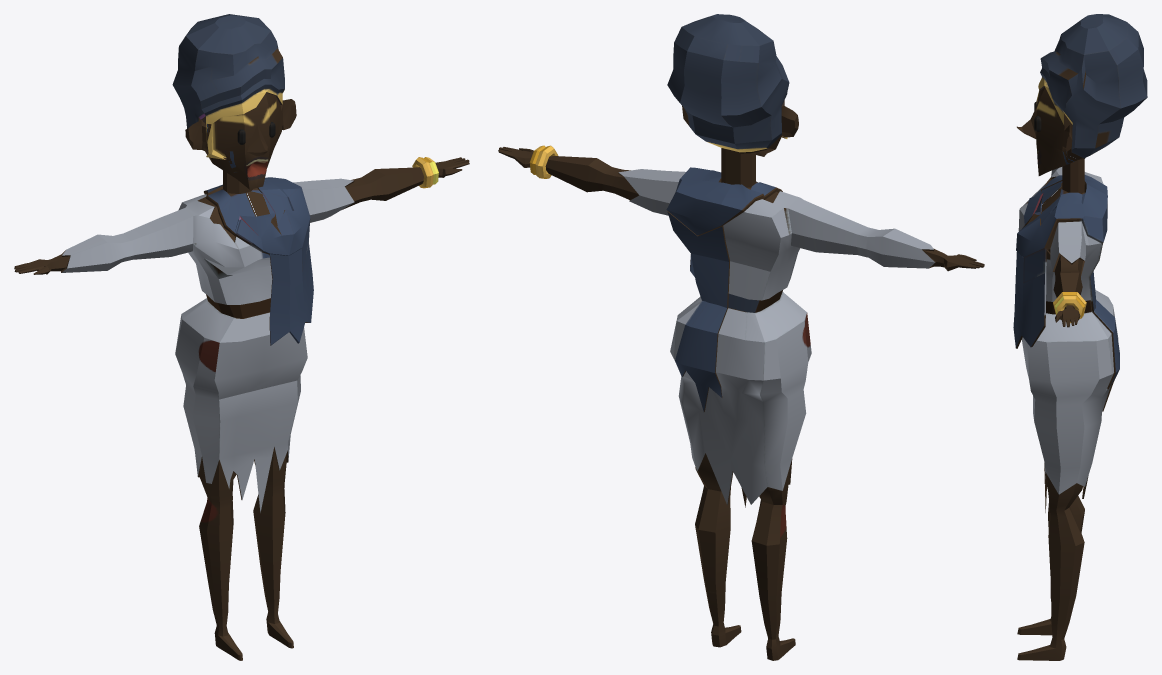
The model's file is tetanus_w.fbx.
The picture shows the model from 3 angles, left to right: view 1: azimuth 30°, elevation 25°; view 2: azimuth 150°, elevation 25°; view 3: azimuth 270°, elevation 25°; orthographic projection. The views are drawn at different scales.
Visible parts, largest first — view 1: Symmetry_1; view 2: Symmetry_1; view 3: Symmetry_1, Torus.
Boxes of the visible parts, left/top/right/bottom form: Symmetry_1: left=14, top=14, right=469, bottom=660; Symmetry_1: left=498, top=14, right=984, bottom=660; Symmetry_1: left=1013, top=14, right=1147, bottom=660; Torus: left=1054, top=296, right=1084, bottom=323.
Size of the model in its own units: 310 by 397 by 77.05.
1 material, 1 textured.
